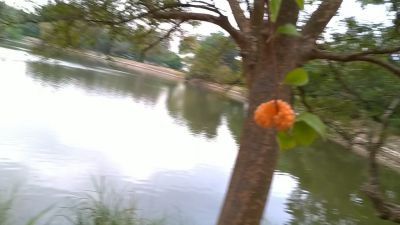eggs: (252, 99, 297, 132)
